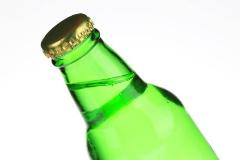glass: (38, 14, 222, 160)
